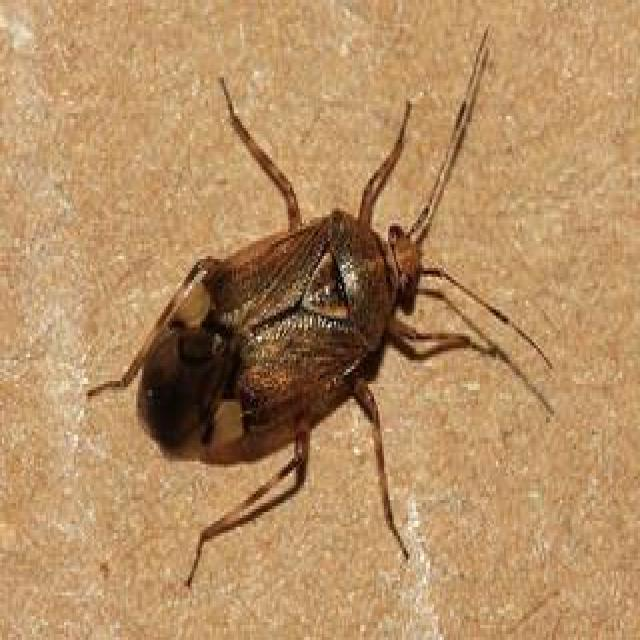Miridae-Adult-: (71, 25, 562, 577)
